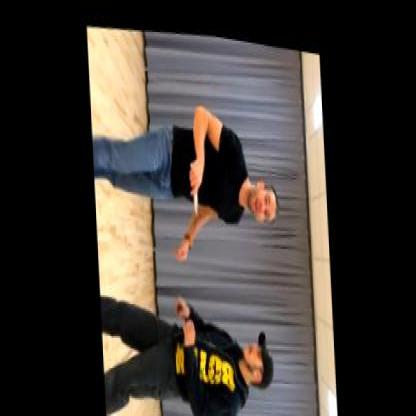knife: (186, 150, 202, 211)
